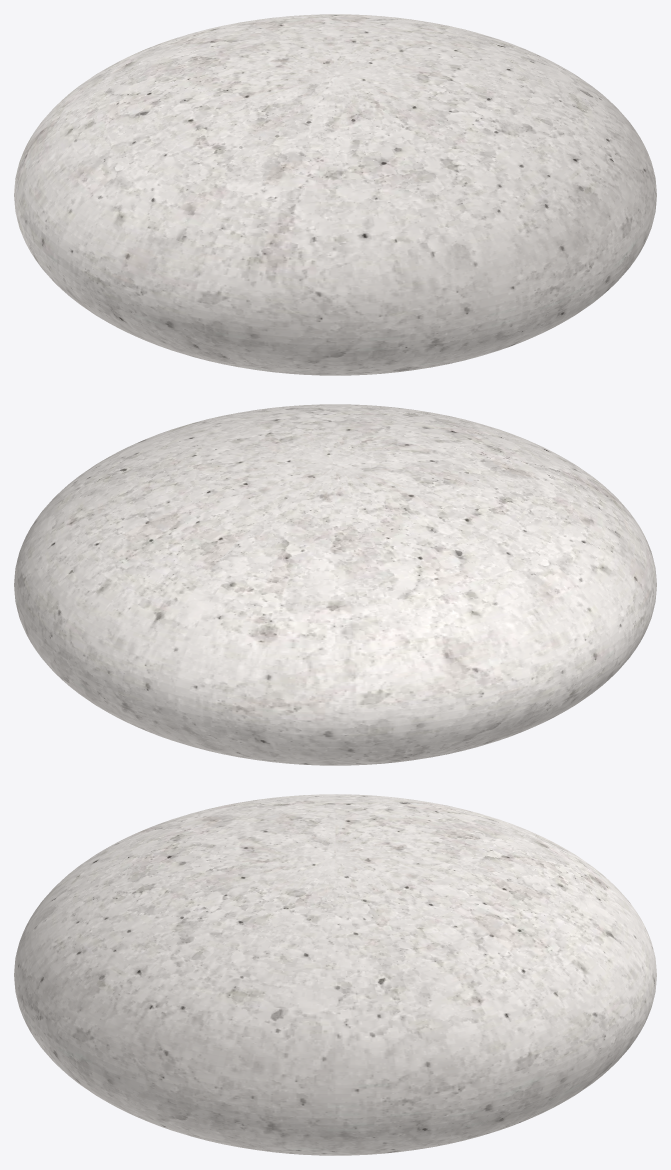
The model's file is go-stone-white.glb.
3 views of the same model, one above another, from view 1: azimuth 30°, elevation 25°; view 2: azimuth 150°, elevation 25°; view 3: azimuth 270°, elevation 25° (orthographic).
Parts seen in each view (by area): view 1: go-stone-white; view 2: go-stone-white; view 3: go-stone-white.
Part boxes in pixels (bbox=[...]): go-stone-white: bbox=[14, 14, 656, 375]; go-stone-white: bbox=[14, 404, 656, 765]; go-stone-white: bbox=[14, 794, 656, 1155].
Size of the model in its own units: 0.022 by 0.009 by 0.022.
1 material, 1 textured.
